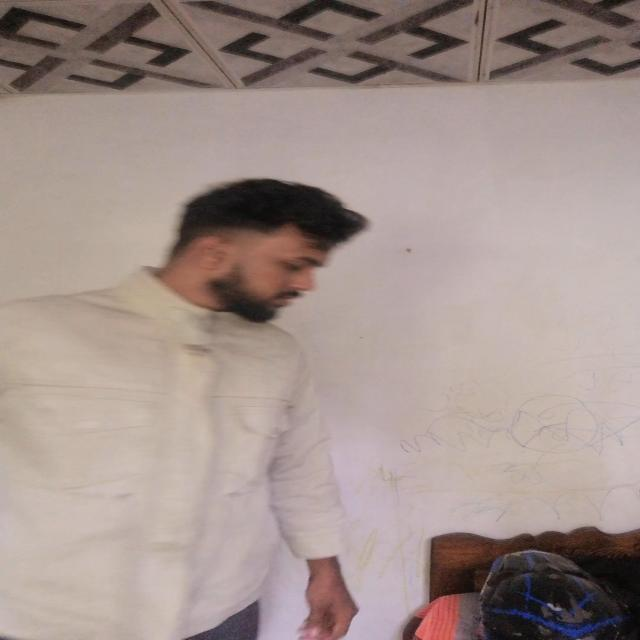Jacket_Wearer: (3, 265, 341, 634)
Person: (4, 165, 420, 640)
